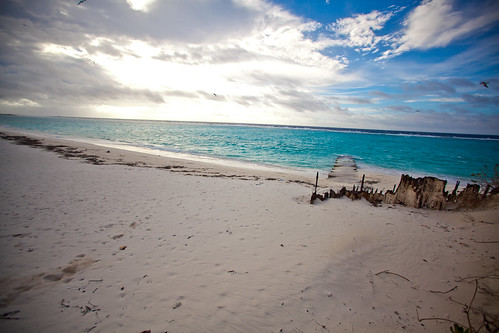beach: (1, 150, 499, 333)
sea: (24, 123, 498, 180)
sky: (7, 1, 499, 113)
